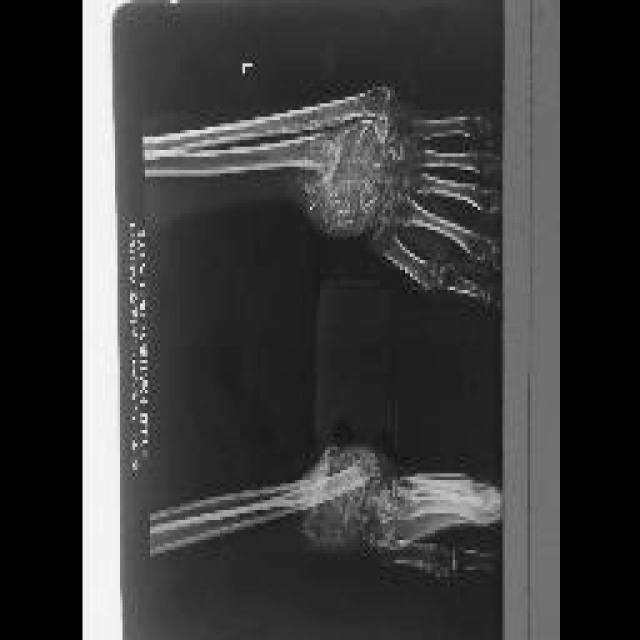bone-cancer: (299, 85, 403, 225), (302, 448, 395, 537)
